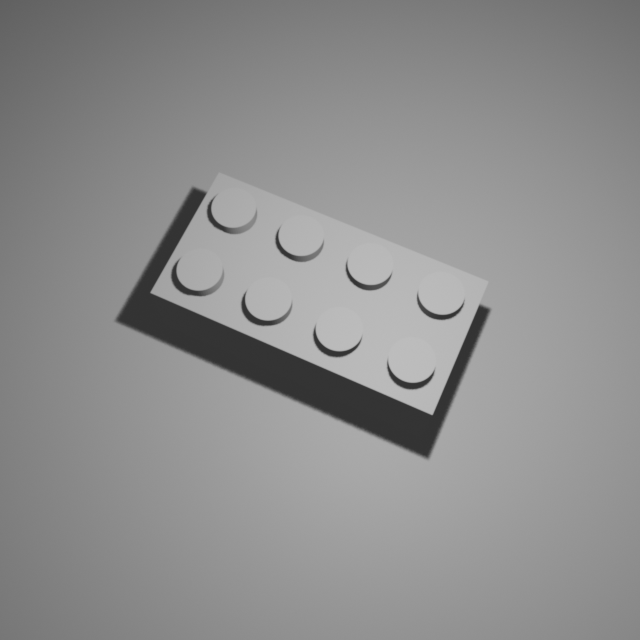lego_2x4: (148, 165, 491, 438)
